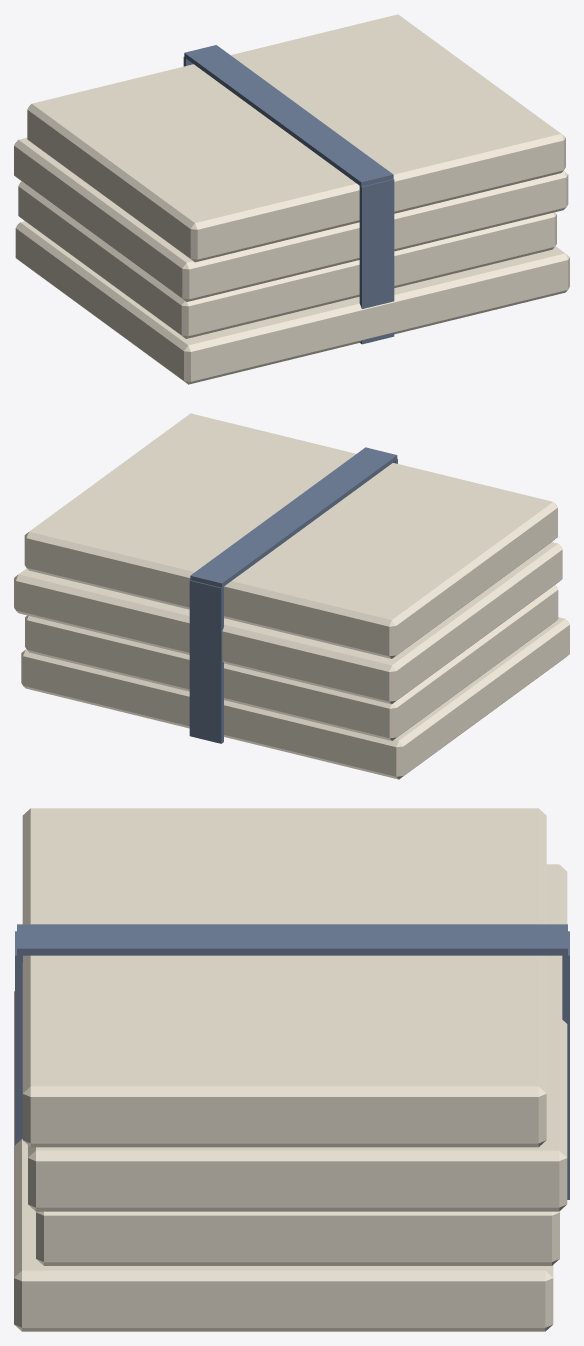
The model's file is Prop_YTM_LinenStack.glb.
3 views of the same model, one above another, from view 1: azimuth 30°, elevation 25°; view 2: azimuth 150°, elevation 25°; view 3: azimuth 270°, elevation 25° (orthographic). The views are drawn at different scales.
Visible parts, largest first — view 1: Prop_YTM_LinenStack; view 2: Prop_YTM_LinenStack; view 3: Prop_YTM_LinenStack.
Part boxes in pixels (x1=…): Prop_YTM_LinenStack: x1=14, y1=14, x2=569, y2=384; Prop_YTM_LinenStack: x1=14, y1=413, x2=569, y2=779; Prop_YTM_LinenStack: x1=14, y1=808, x2=569, y2=1331.
Bounding box in the file's own units: 0.3626 × 0.144 × 0.2886.
